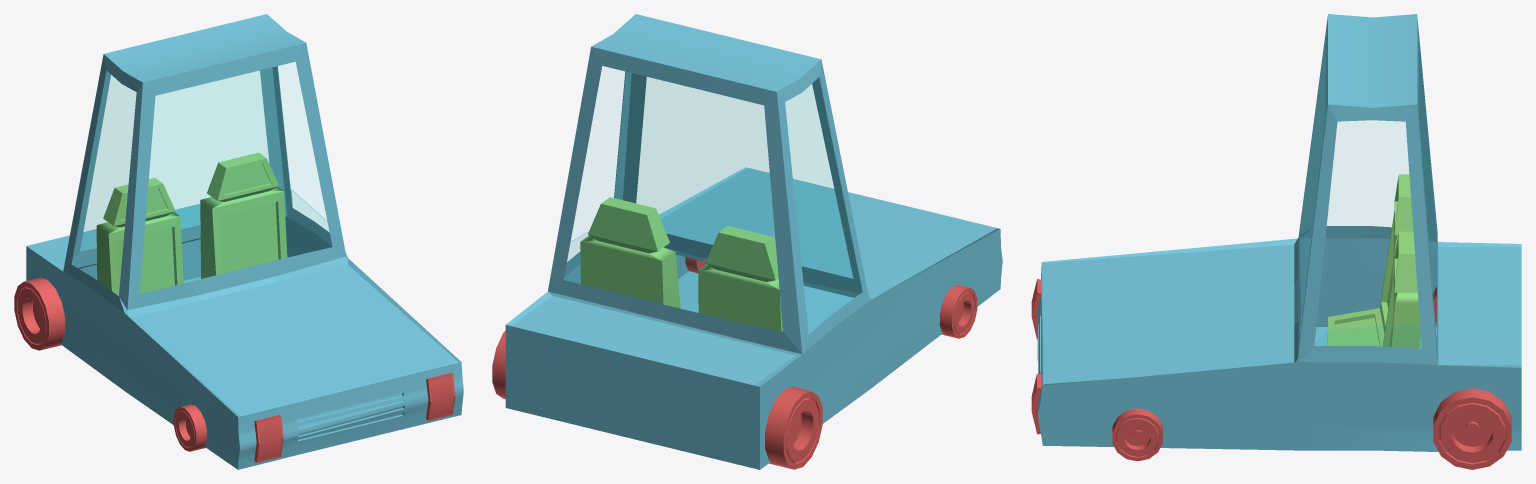
The model's file is Car_CK_Test.fbx.
The picture shows the model from 3 angles, left to right: view 1: azimuth 30°, elevation 25°; view 2: azimuth 150°, elevation 25°; view 3: azimuth 270°, elevation 25°; orthographic projection. The views are drawn at different scales.
Visible parts, largest first — view 1: pCube1, pCube4, pCylinder7; view 2: pCube1, pCube4, pCylinder7; view 3: pCube1, pCylinder7, pCube4.
Boxes of the visible parts, x1=… form: pCube1: x1=26, y1=14, x2=463, y2=469; pCube4: x1=96, y1=152, x2=287, y2=295; pCylinder7: x1=14, y1=256, x2=455, y2=462; pCube1: x1=505, y1=14, x2=1002, y2=469; pCube4: x1=580, y1=197, x2=782, y2=331; pCylinder7: x1=492, y1=257, x2=977, y2=469; pCube1: x1=1037, y1=14, x2=1521, y2=451; pCylinder7: x1=1031, y1=279, x2=1511, y2=469; pCube4: x1=1327, y1=174, x2=1420, y2=348.
Bounding box in the file's own units: 10.31 × 11.55 × 15.06.
